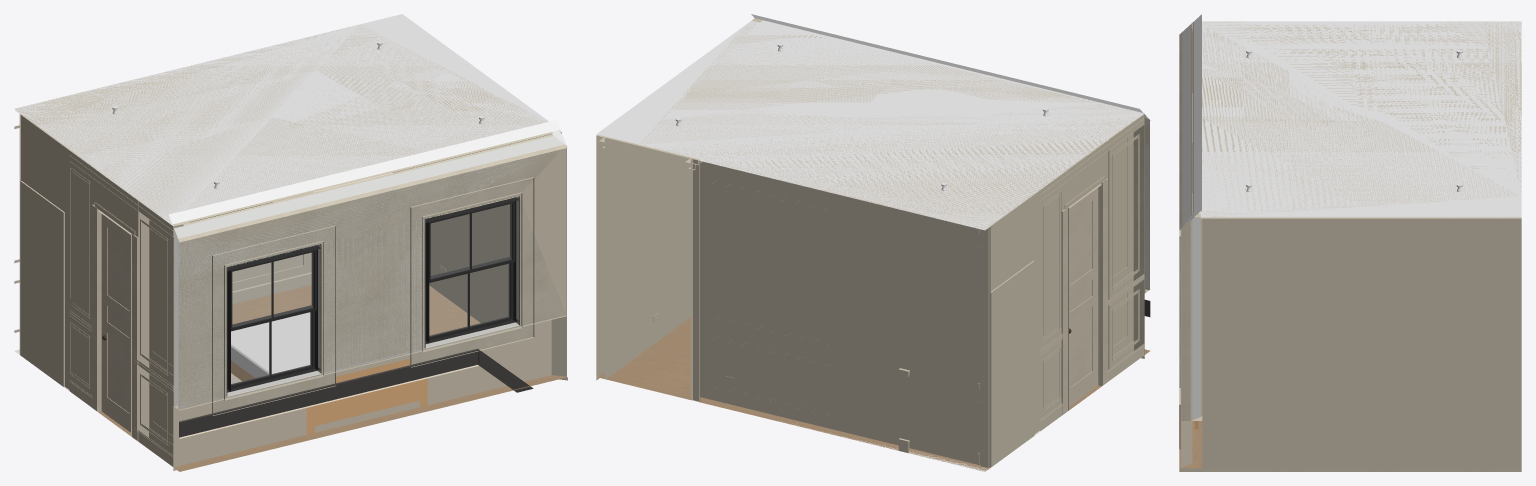
File: blue-bedroom-0c4fe6f559d5.glb
3 renders of one model, left to right at view 1: azimuth 30°, elevation 25°; view 2: azimuth 150°, elevation 25°; view 3: azimuth 270°, elevation 25°, orthographic. The views are drawn at different scales.
Parts seen in each view (by area): view 1: blue-bedroom-9d91b47435c6fb33, blue-bedroom-bddaf205afbd60c0, blue-bedroom-e8793759323e04f0, blue-bedroom-df3e1f21720b0c39, blue-bedroom-ed5fdcd3ee9c0dd5, blue-bedroom-649b3532e9781727, blue-bedroom-3c3de67e8dd93323, blue-bedroom-2f7d8eff34a2c180, blue-bedroom-ead09a0b3f9e3bd9, blue-bedroom-d558d227e2c2e58e, blue-bedroom-746250f96522f643, blue-bedroom-64753ebcb3824a84 (+15 smaller); view 2: blue-bedroom-6e269356ae8bfd70, blue-bedroom-9d91b47435c6fb33, blue-bedroom-e8793759323e04f0, blue-bedroom-746250f96522f643, blue-bedroom-ed5fdcd3ee9c0dd5, blue-bedroom-ead09a0b3f9e3bd9, blue-bedroom-3e649b0d114ae387, blue-bedroom-bf159a19de53e60e, blue-bedroom-2575515a05775d9e, blue-bedroom-8798d08755b4aa77, blue-bedroom-95684fa6df9df9bf, blue-bedroom-1e72e6a7b41a2abd (+6 smaller); view 3: blue-bedroom-746250f96522f643, blue-bedroom-9d91b47435c6fb33, blue-bedroom-e8793759323e04f0, blue-bedroom-2575515a05775d9e, blue-bedroom-0a6e1f8a567f4490, blue-bedroom-49f6d498b24b79cd, blue-bedroom-64753ebcb3824a84, blue-bedroom-df3e1f21720b0c39, blue-bedroom-34525a54e63b733b, blue-bedroom-2f7d8eff34a2c180, blue-bedroom-4edf3a9420c06709, blue-bedroom-bddaf205afbd60c0 (+1 smaller).
Boxes of the visible parts, <box> form: blue-bedroom-9d91b47435c6fb33: <box>14,14,552,226</box>; blue-bedroom-bddaf205afbd60c0: <box>178,144,566,409</box>; blue-bedroom-e8793759323e04f0: <box>15,26,560,224</box>; blue-bedroom-df3e1f21720b0c39: <box>178,145,567,410</box>; blue-bedroom-ed5fdcd3ee9c0dd5: <box>19,114,149,441</box>; blue-bedroom-649b3532e9781727: <box>425,195,519,343</box>; blue-bedroom-3c3de67e8dd93323: <box>227,244,321,392</box>; blue-bedroom-2f7d8eff34a2c180: <box>173,315,566,470</box>; blue-bedroom-ead09a0b3f9e3bd9: <box>20,181,64,386</box>; blue-bedroom-d558d227e2c2e58e: <box>231,312,427,434</box>; blue-bedroom-746250f96522f643: <box>393,135,546,322</box>; blue-bedroom-64753ebcb3824a84: <box>174,136,564,409</box>; blue-bedroom-6e269356ae8bfd70: <box>700,159,990,471</box>; blue-bedroom-9d91b47435c6fb33: <box>596,20,1143,229</box>; blue-bedroom-e8793759323e04f0: <box>641,14,1142,228</box>; blue-bedroom-746250f96522f643: <box>596,135,690,378</box>; blue-bedroom-ed5fdcd3ee9c0dd5: <box>980,139,1108,467</box>; blue-bedroom-ead09a0b3f9e3bd9: <box>990,261,1034,467</box>; blue-bedroom-3e649b0d114ae387: <box>1108,113,1144,369</box>; blue-bedroom-bf159a19de53e60e: <box>1069,187,1098,406</box>; blue-bedroom-2575515a05775d9e: <box>596,317,1150,471</box>; blue-bedroom-8798d08755b4aa77: <box>1061,178,1107,414</box>; blue-bedroom-95684fa6df9df9bf: <box>691,158,699,401</box>; blue-bedroom-1e72e6a7b41a2abd: <box>709,180,832,346</box>; blue-bedroom-746250f96522f643: <box>1202,217,1521,468</box>; blue-bedroom-9d91b47435c6fb33: <box>1192,21,1521,218</box>; blue-bedroom-e8793759323e04f0: <box>1194,14,1521,217</box>; blue-bedroom-2575515a05775d9e: <box>1179,404,1521,471</box>; blue-bedroom-0a6e1f8a567f4490: <box>1181,220,1190,420</box>; blue-bedroom-49f6d498b24b79cd: <box>1192,216,1200,420</box>; blue-bedroom-64753ebcb3824a84: <box>1182,24,1190,226</box>; blue-bedroom-df3e1f21720b0c39: <box>1179,33,1181,403</box>; blue-bedroom-34525a54e63b733b: <box>1200,218,1202,420</box>; blue-bedroom-2f7d8eff34a2c180: <box>1179,388,1192,467</box>; blue-bedroom-4edf3a9420c06709: <box>1191,218,1192,420</box>; blue-bedroom-bddaf205afbd60c0: <box>1181,32,1182,227</box>.
Bounding box in the file's own units: 4.88 × 3.04 × 3.6.
27 materials, 5 textured.
